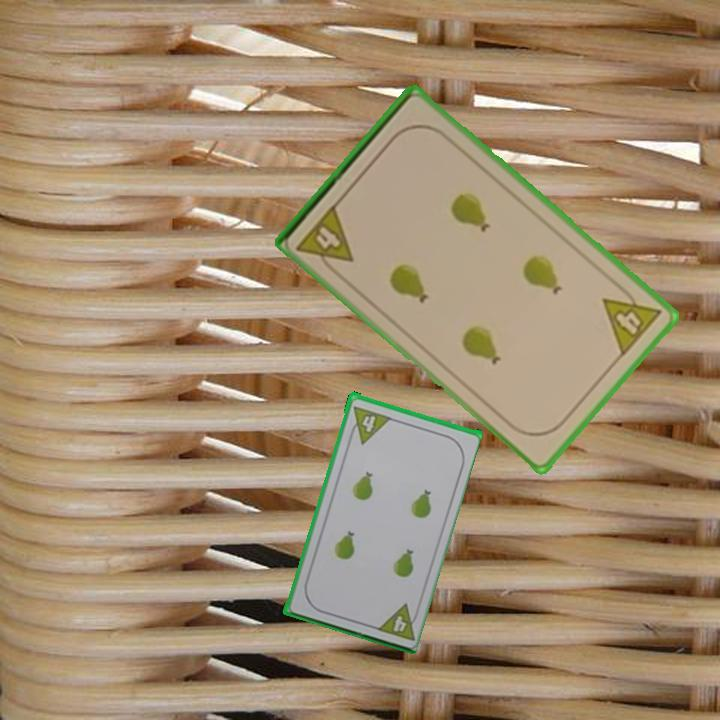4p: (599, 279, 665, 360), (293, 200, 357, 279), (371, 599, 423, 644), (345, 402, 393, 446)
